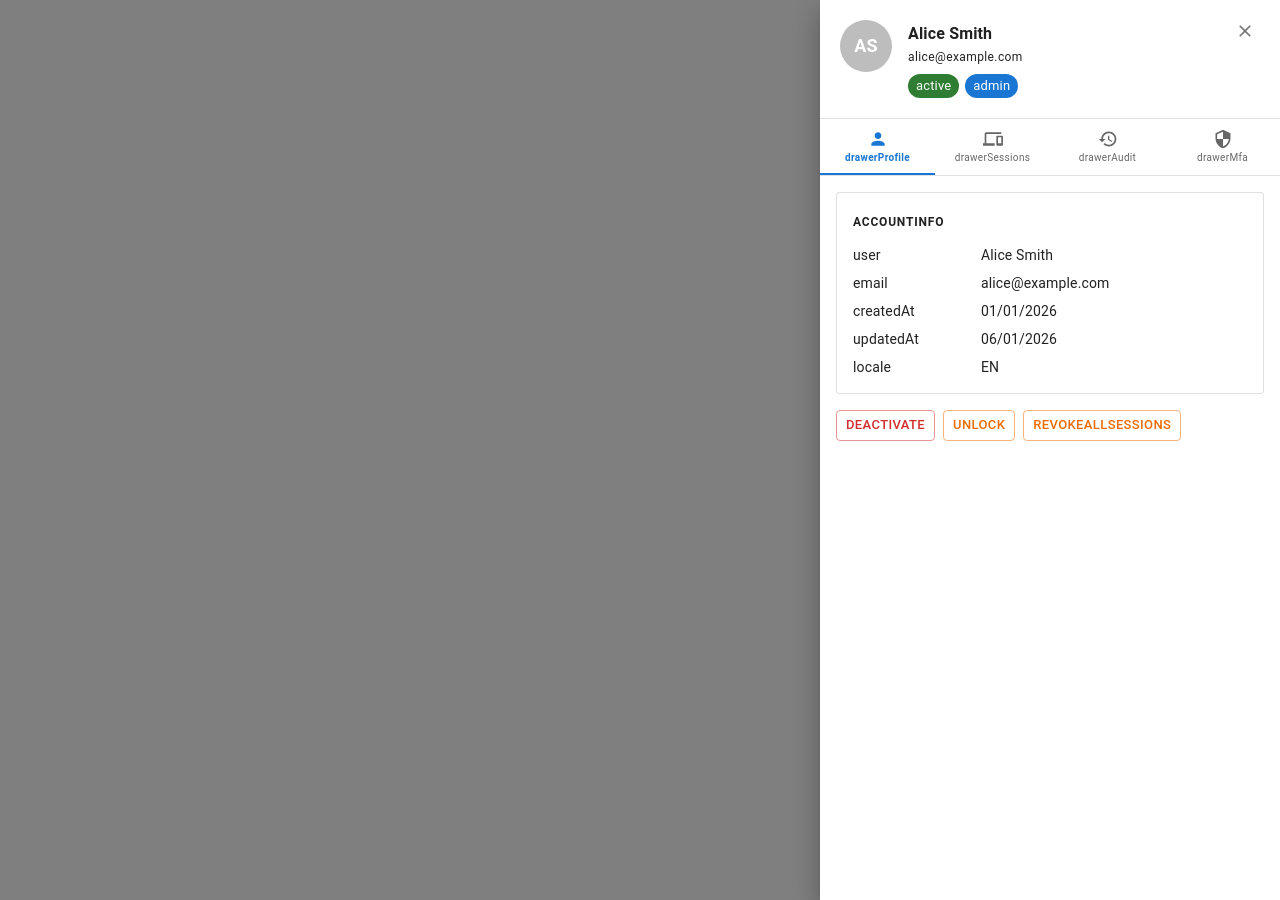
Test: UserProfileDrawer component › shows noSessionsFound when sessions load empty
Click the text "drawerSessions" at (992, 158), box [955,153,1030,163]
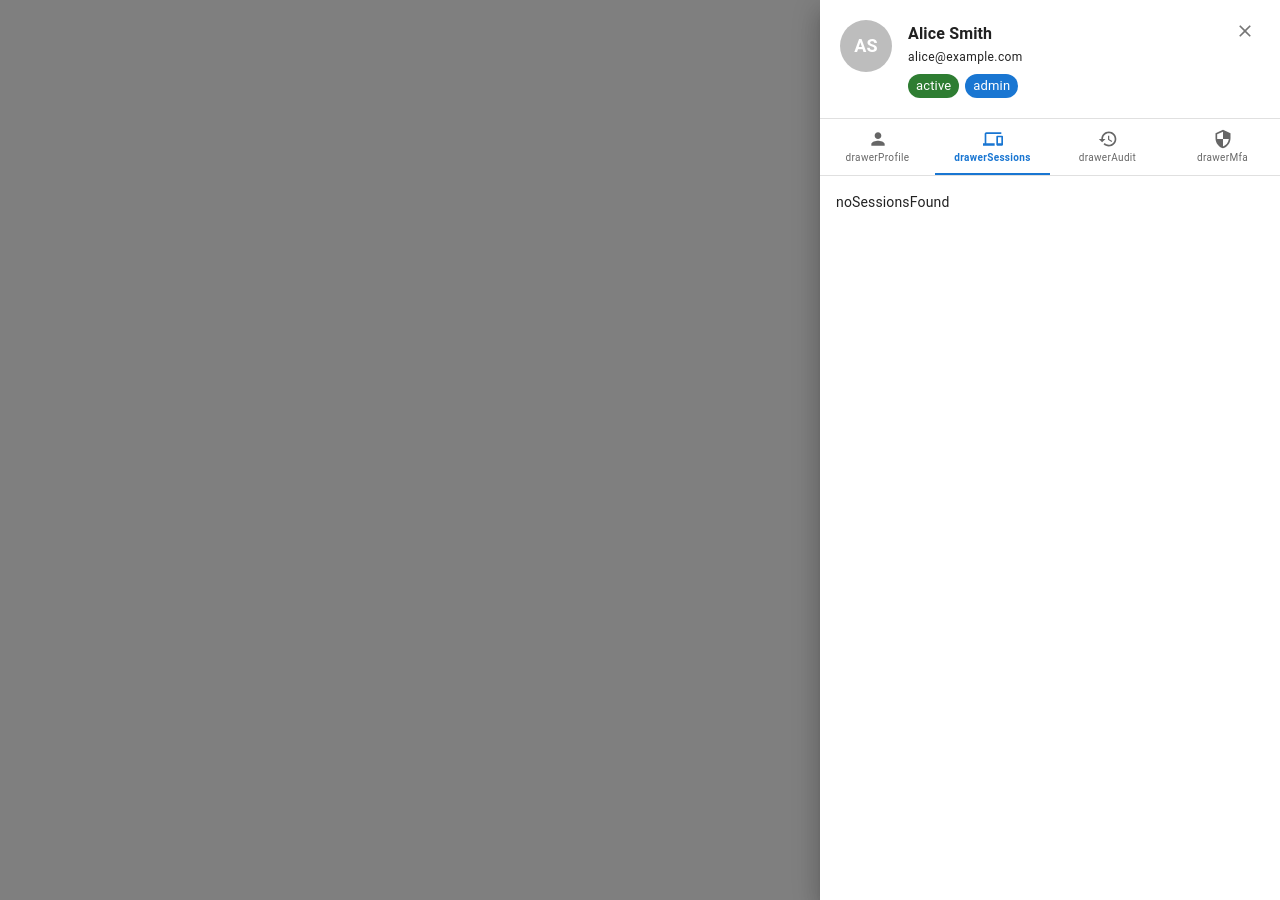
Check: the text "noSessionsFound" is shown, box [836,194,949,210]
